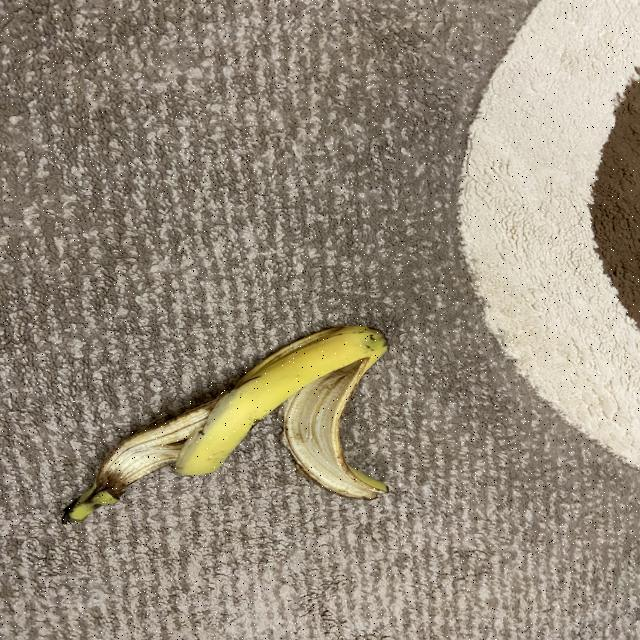banana-peel: (60, 321, 390, 525)
